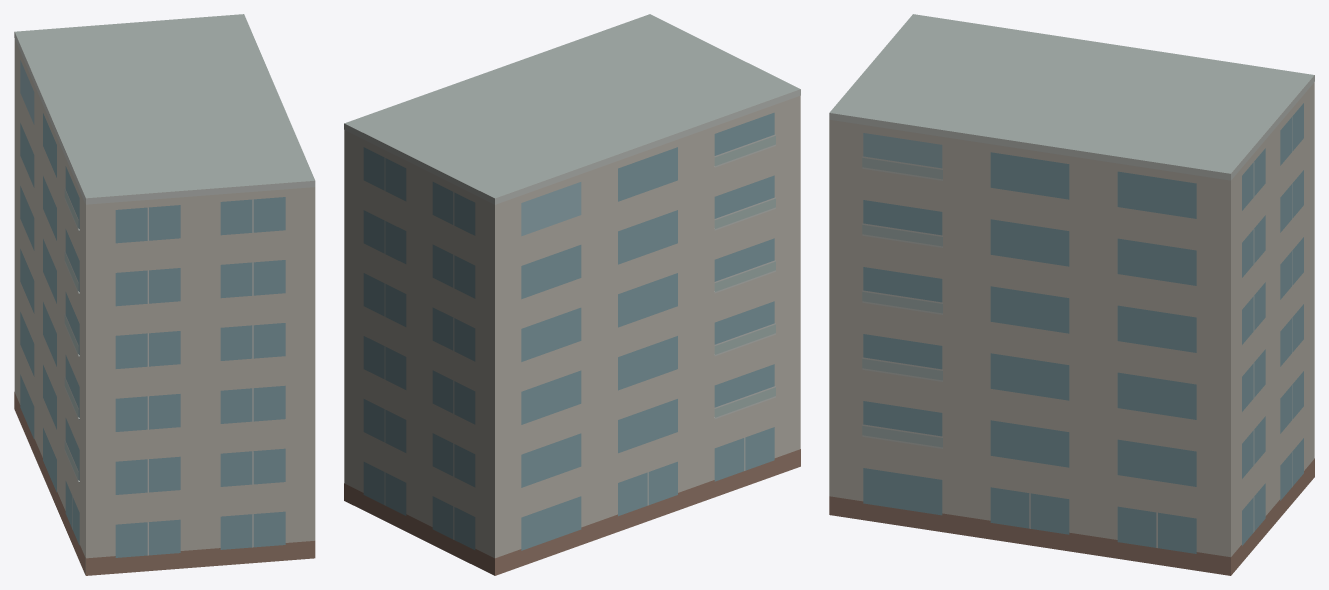
The model's file is survey-upis-33032168.glb.
3 views of the same model, side by side, from view 1: azimuth 30°, elevation 25°; view 2: azimuth 150°, elevation 25°; view 3: azimuth 270°, elevation 25° (orthographic). The views are drawn at different scales.
Visible parts, largest first — view 1: survey-upis-33032168.tmp; view 2: survey-upis-33032168.tmp; view 3: survey-upis-33032168.tmp.
Part boxes in pixels (left/top/right/bottom): survey-upis-33032168.tmp: left=14, top=14, right=315, bottom=575; survey-upis-33032168.tmp: left=344, top=14, right=800, bottom=575; survey-upis-33032168.tmp: left=829, top=14, right=1314, bottom=575.
Bounding box in the file's own units: 12.33 × 14.45 × 15.82.
